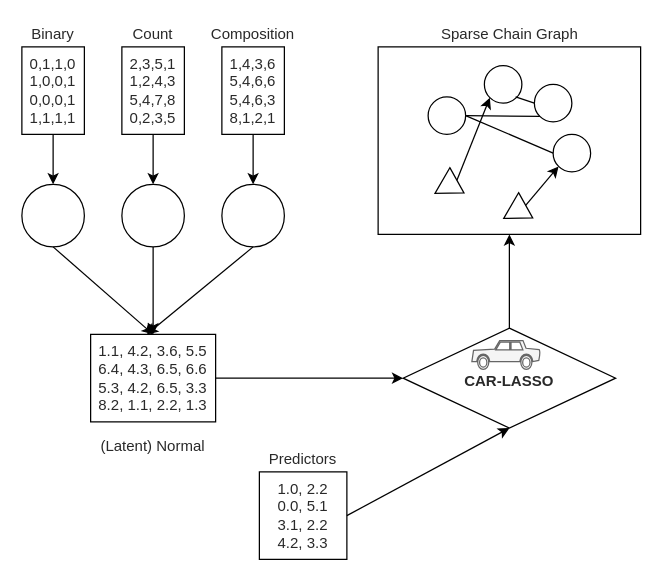
Some shapes in this 663 by 581 pixel diagram are drawn without their labels. The centre of each missing label's shape, as x and y in pixels:
"Multi-nomial" goes at (x=252, y=215).
"Poisson" goes at (x=152, y=215).
"Probit" goes at (x=52, y=215).
